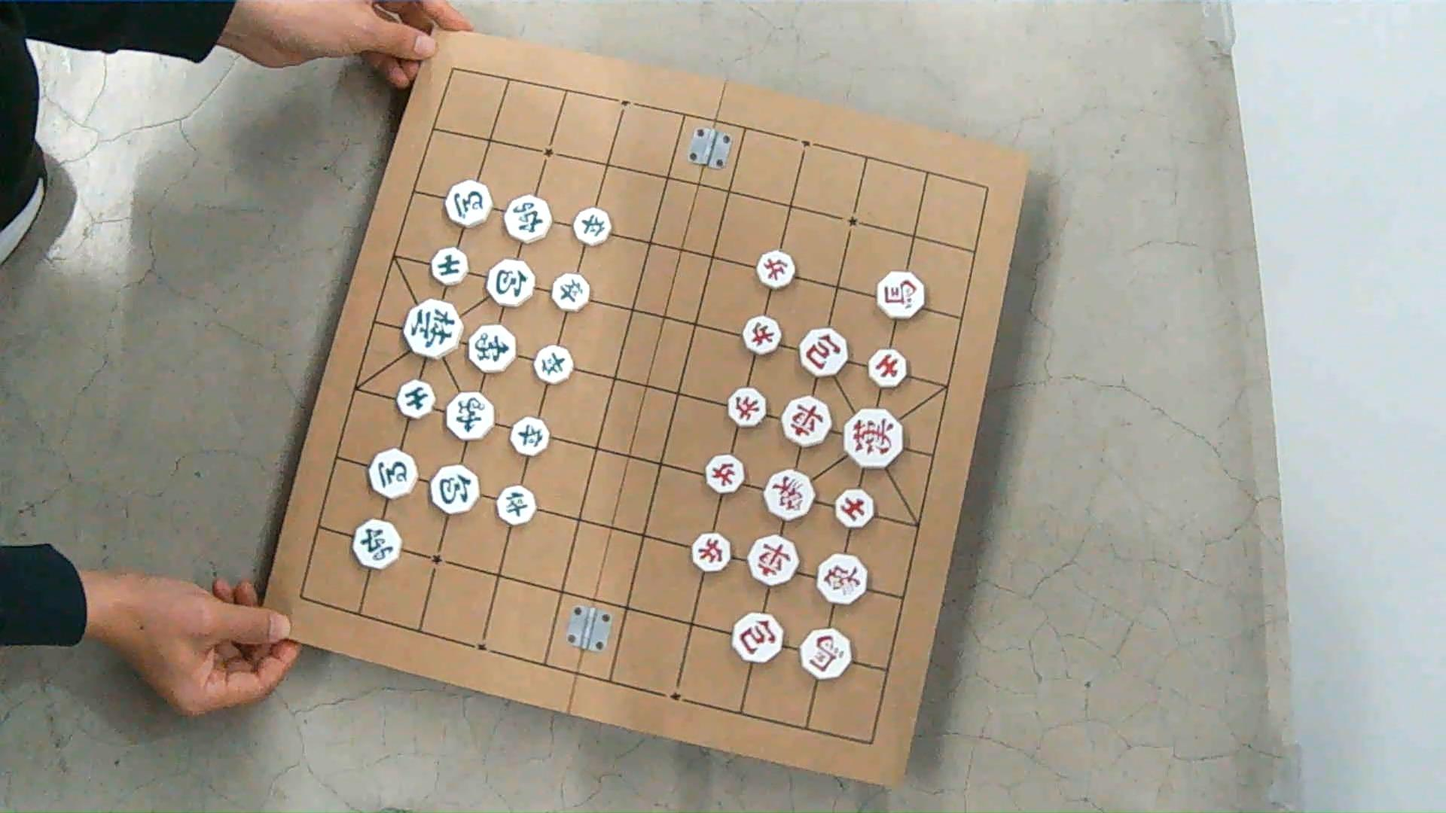cha_green: (353, 519, 401, 568), (504, 195, 551, 242)
cha_red: (748, 536, 798, 586), (782, 397, 831, 447)
jol_green: (497, 486, 535, 525), (551, 273, 589, 311), (534, 346, 572, 383), (511, 417, 548, 455), (574, 208, 610, 245)
jol_red: (727, 387, 766, 427), (704, 455, 743, 494), (691, 533, 731, 571), (755, 251, 794, 289), (743, 315, 780, 355)
ma_green: (368, 448, 418, 500), (444, 178, 493, 227)
ma_red: (800, 629, 850, 679), (876, 271, 924, 319)
po_green: (429, 465, 478, 514), (487, 259, 533, 306)
po_red: (732, 613, 782, 662), (799, 328, 847, 376)
sa_green: (395, 379, 436, 419), (430, 248, 466, 285)
sa_red: (834, 489, 874, 528), (868, 349, 907, 388)
sang_green: (445, 392, 493, 440), (467, 324, 514, 372)
sang_red: (764, 469, 816, 521), (816, 553, 868, 604)
wang_green: (404, 299, 462, 358)
wang_red: (842, 408, 905, 469)
